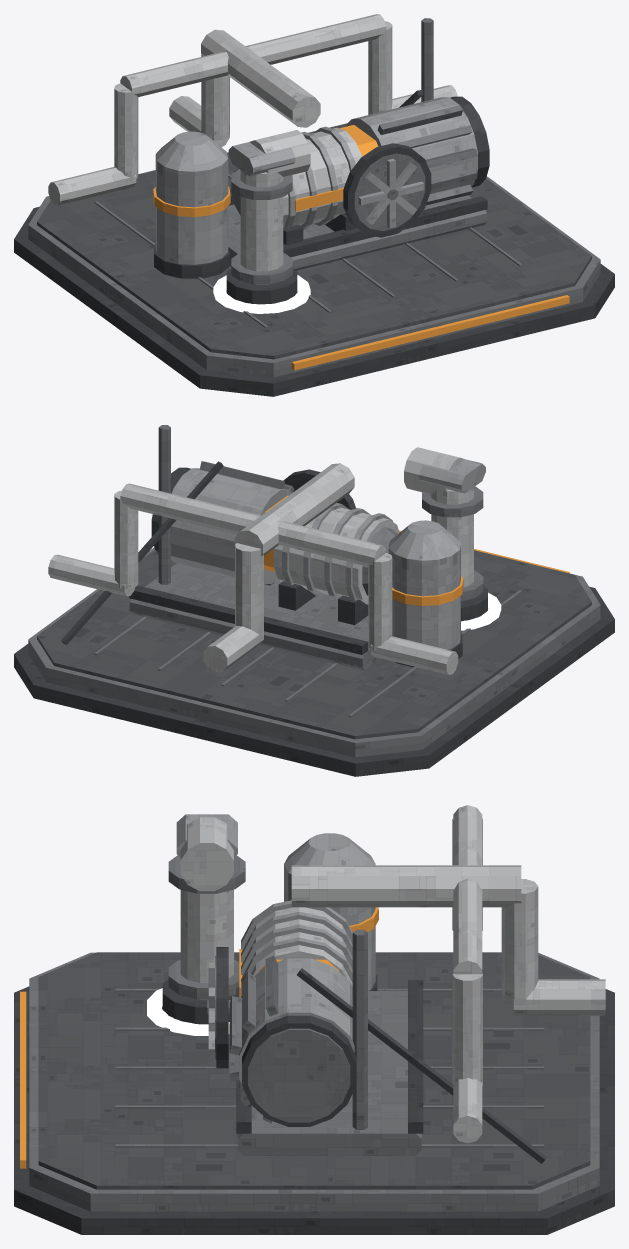
File: pump_lod2.glb
The picture shows the model from 3 angles, top to bottom: view 1: azimuth 30°, elevation 25°; view 2: azimuth 150°, elevation 25°; view 3: azimuth 270°, elevation 25°; orthographic projection. The views are drawn at different scales.
Parts seen in each view (by area): view 1: pump_base_body.002, pump_wheel_body.002, pump_base_trim.002, pump_base_glow.002; view 2: pump_base_body.002, pump_base_trim.002, pump_base_glow.002, pump_wheel_body.002; view 3: pump_base_body.002, pump_wheel_body.002, pump_base_trim.002, pump_base_glow.002.
Part boxes in pixels (left/top/right/bottom): pump_base_body.002: left=14, top=14, right=614, bottom=396; pump_wheel_body.002: left=343, top=143, right=431, bottom=237; pump_base_trim.002: left=153, top=125, right=569, bottom=370; pump_base_glow.002: left=213, top=275, right=310, bottom=313; pump_base_body.002: left=14, top=425, right=614, bottom=776; pump_base_trim.002: left=264, top=495, right=569, bottom=605; pump_base_glow.002: left=461, top=592, right=501, bottom=630; pump_wheel_body.002: left=283, top=469, right=356, bottom=509; pump_base_body.002: left=14, top=805, right=614, bottom=1234; pump_wheel_body.002: left=208, top=947, right=228, bottom=1068; pump_base_trim.002: left=20, top=907, right=378, bottom=1168; pump_base_glow.002: left=147, top=988, right=229, bottom=1035.
Bounding box in the file's own units: 1.96 × 0.92 × 1.96.
3 materials, 1 textured.
